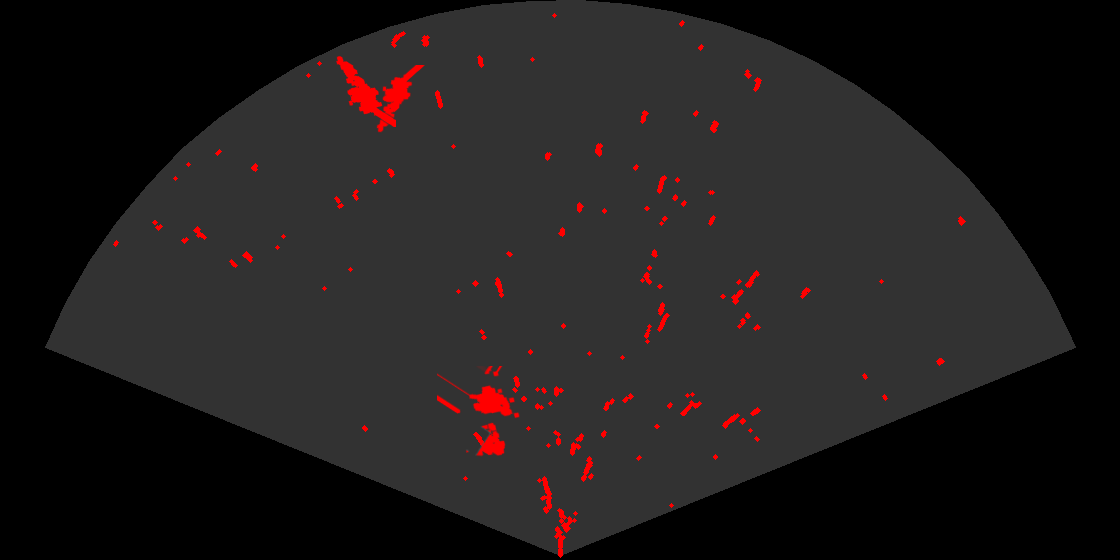cage: (437, 366, 521, 458)
frogman: (335, 54, 396, 127), (375, 65, 426, 134)
